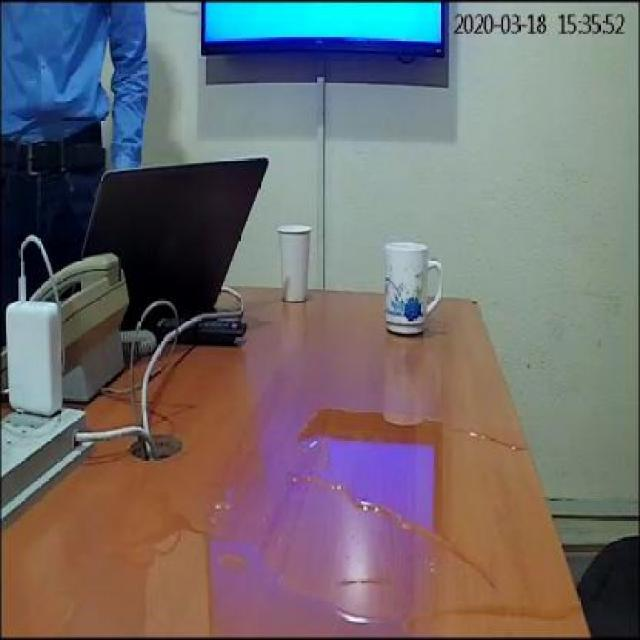spill: (298, 402, 582, 616), (92, 526, 403, 634)
